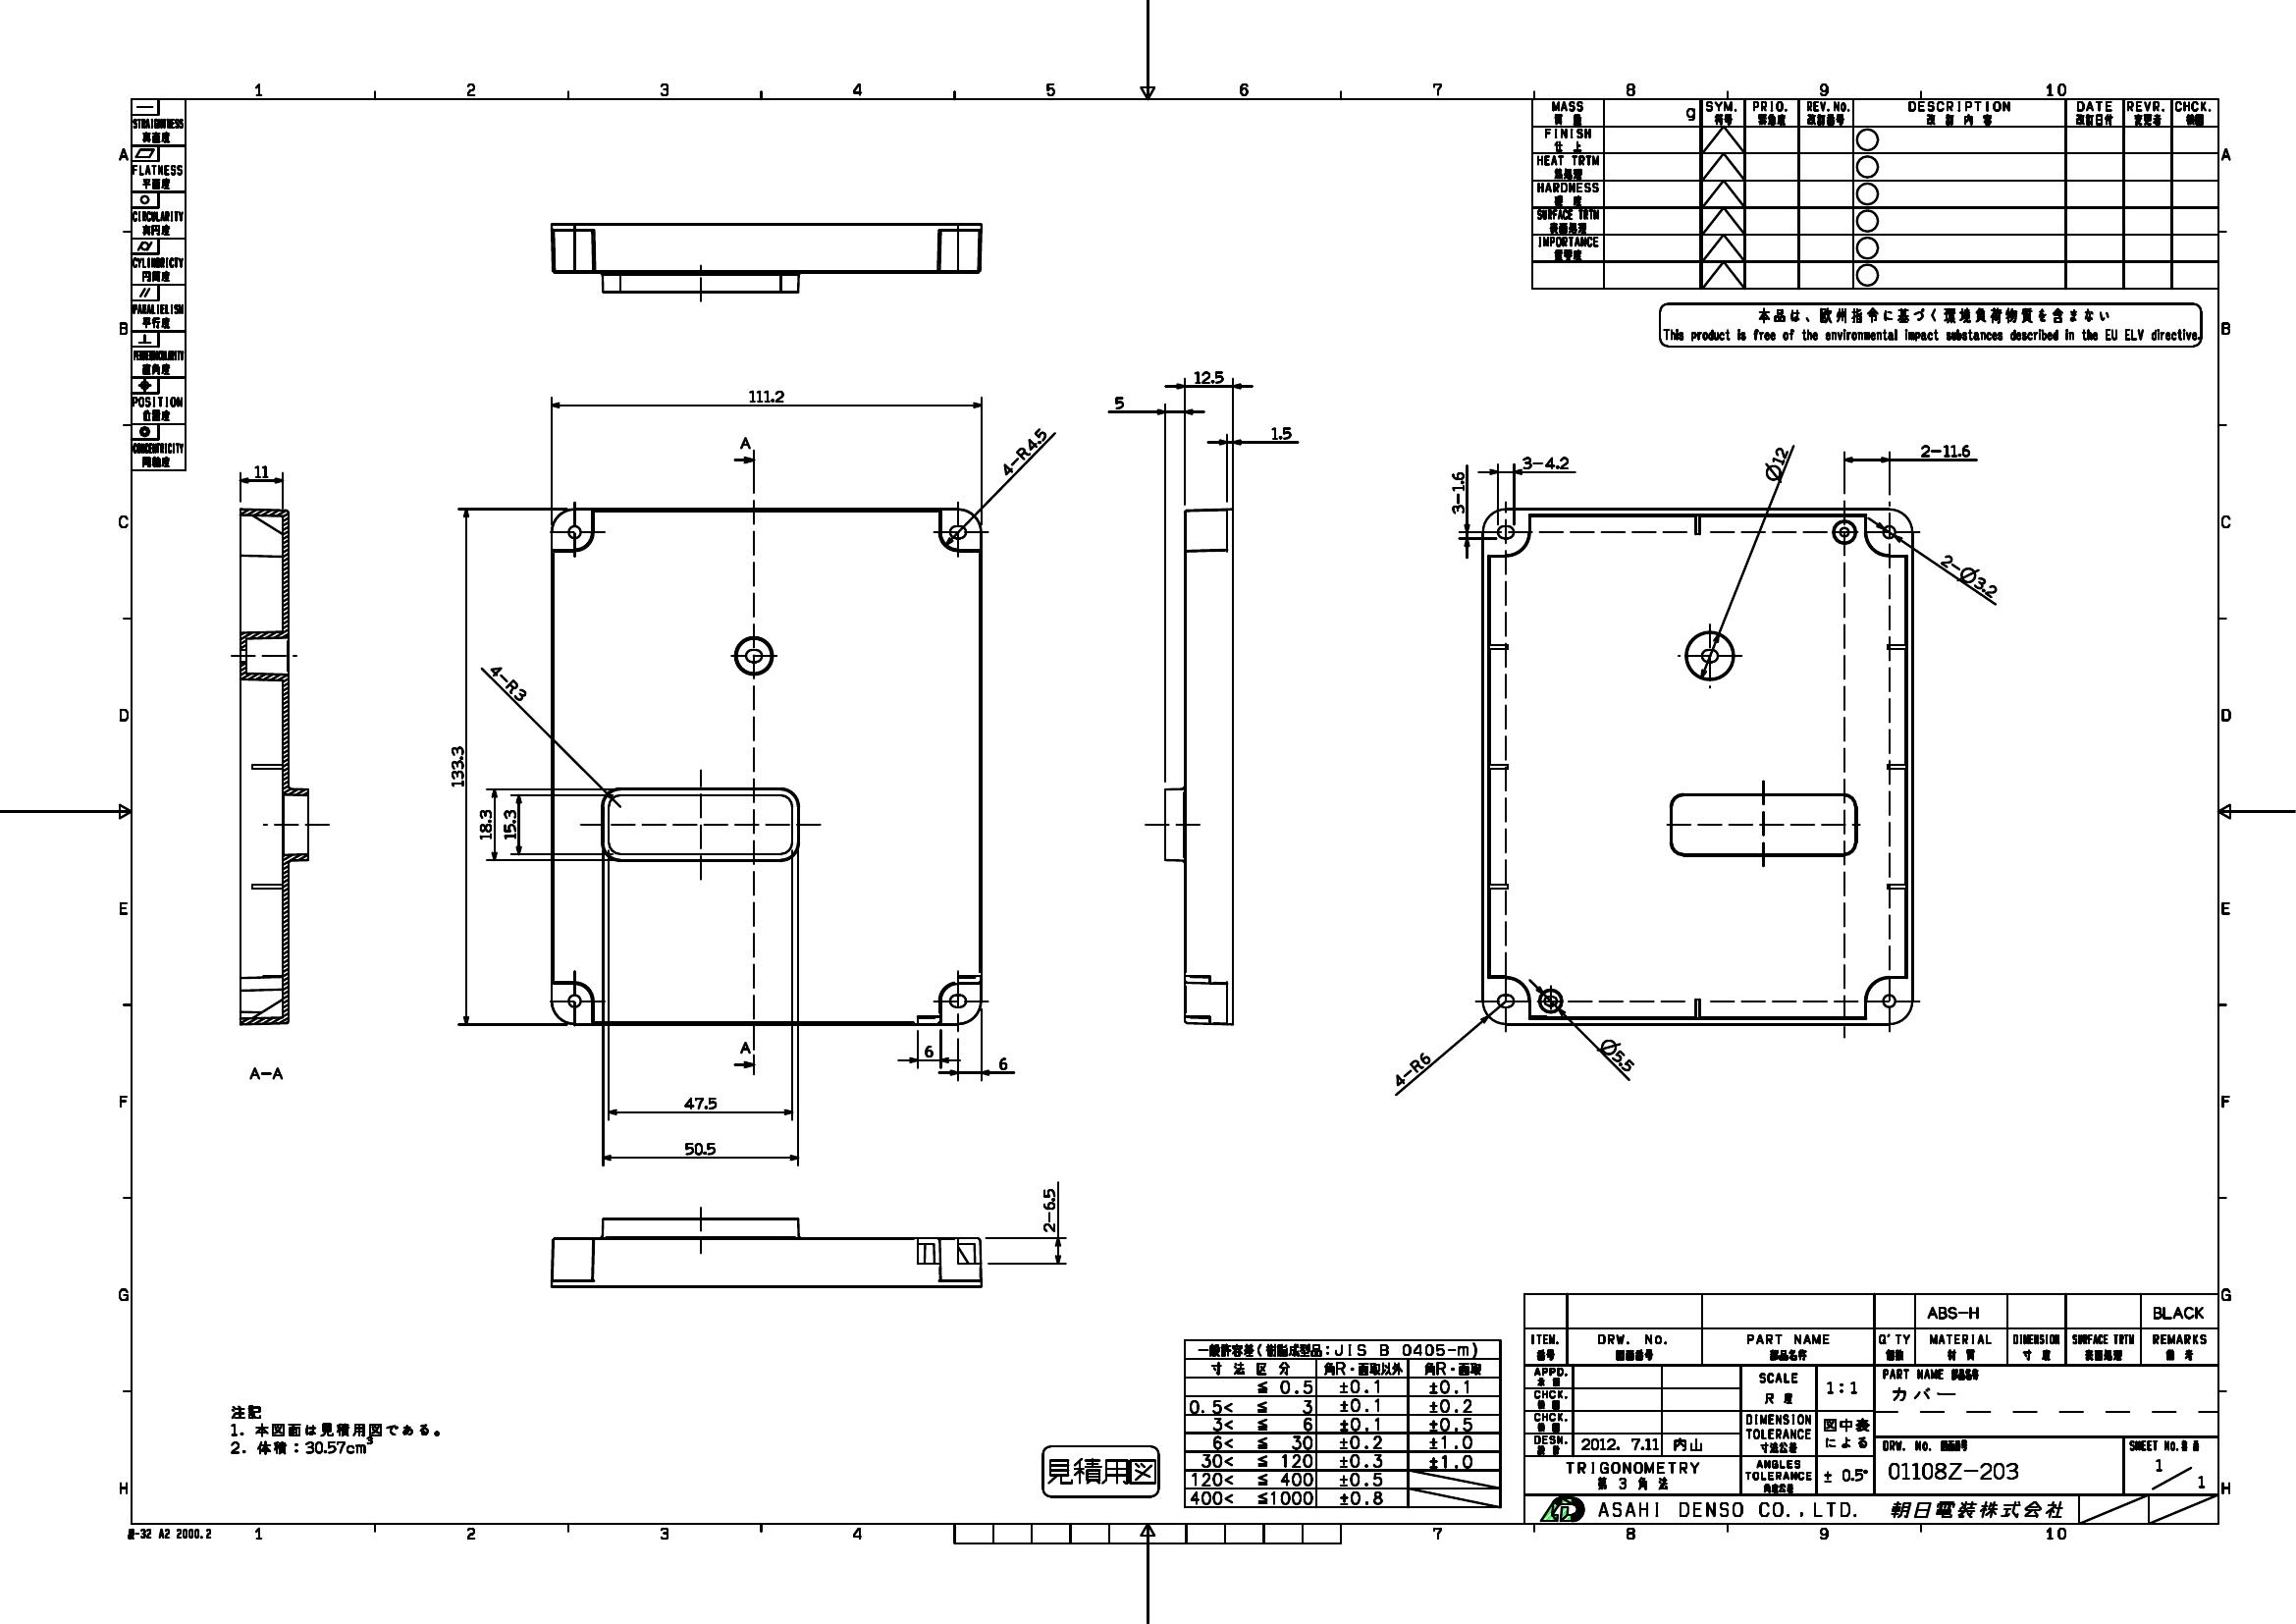anntotation_text: (1660, 302, 2203, 348), (227, 1401, 441, 1461), (1040, 1445, 1159, 1496), (126, 1526, 214, 1543), (246, 1062, 283, 1084), (736, 1039, 754, 1056), (736, 431, 750, 448)
dimension_text: (1929, 569, 2015, 585), (984, 441, 1061, 459), (1518, 452, 1579, 471), (1448, 468, 1470, 517), (487, 673, 538, 692), (1915, 441, 1976, 457), (446, 736, 466, 786), (1038, 1183, 1056, 1234), (1383, 1062, 1440, 1076), (747, 383, 787, 402), (680, 1095, 726, 1111), (1193, 364, 1226, 383), (474, 805, 494, 838), (1767, 443, 1783, 483), (683, 1139, 718, 1156), (1597, 1048, 1639, 1062), (499, 805, 516, 838), (1108, 388, 1130, 413), (1268, 420, 1291, 441), (253, 459, 271, 480), (998, 1056, 1010, 1072), (922, 1044, 935, 1058)
object: (550, 510, 980, 1025), (1483, 510, 1913, 1025), (241, 510, 307, 1026), (552, 221, 980, 290), (553, 1220, 980, 1287), (1182, 508, 1231, 1025)
title_block: (1523, 1294, 2219, 1524), (1530, 102, 2220, 290), (1186, 1341, 1500, 1508), (130, 97, 183, 469)
